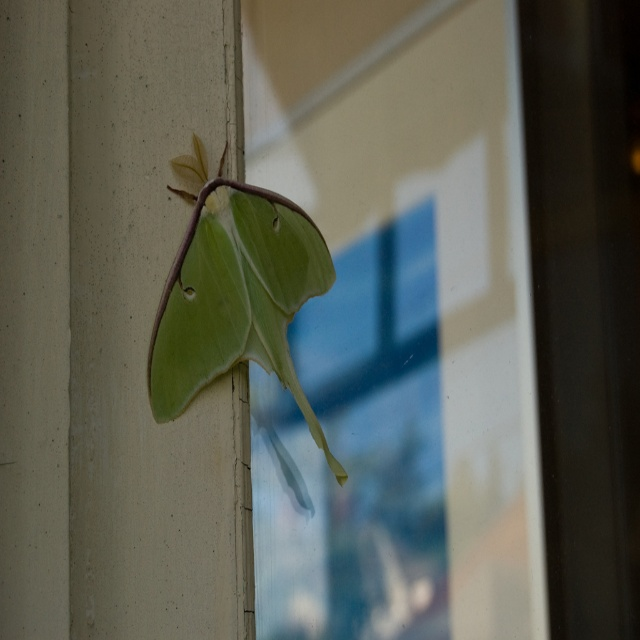Butterfly: (146, 132, 346, 483)
